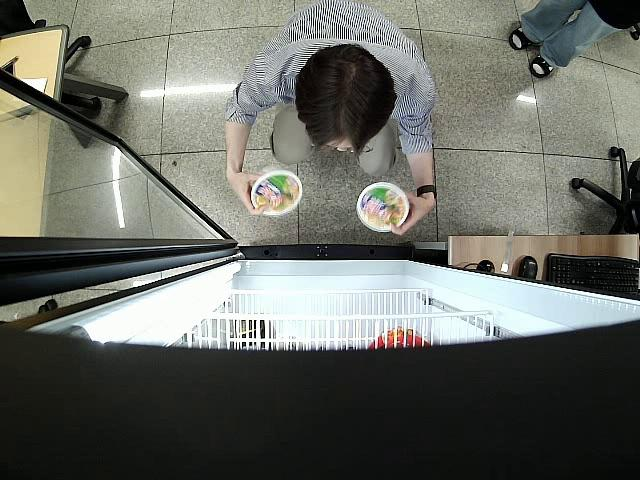00_hand: (388, 192, 430, 235), (229, 172, 268, 217)
09_yukGaeJang: (356, 182, 409, 234), (249, 166, 301, 218)
